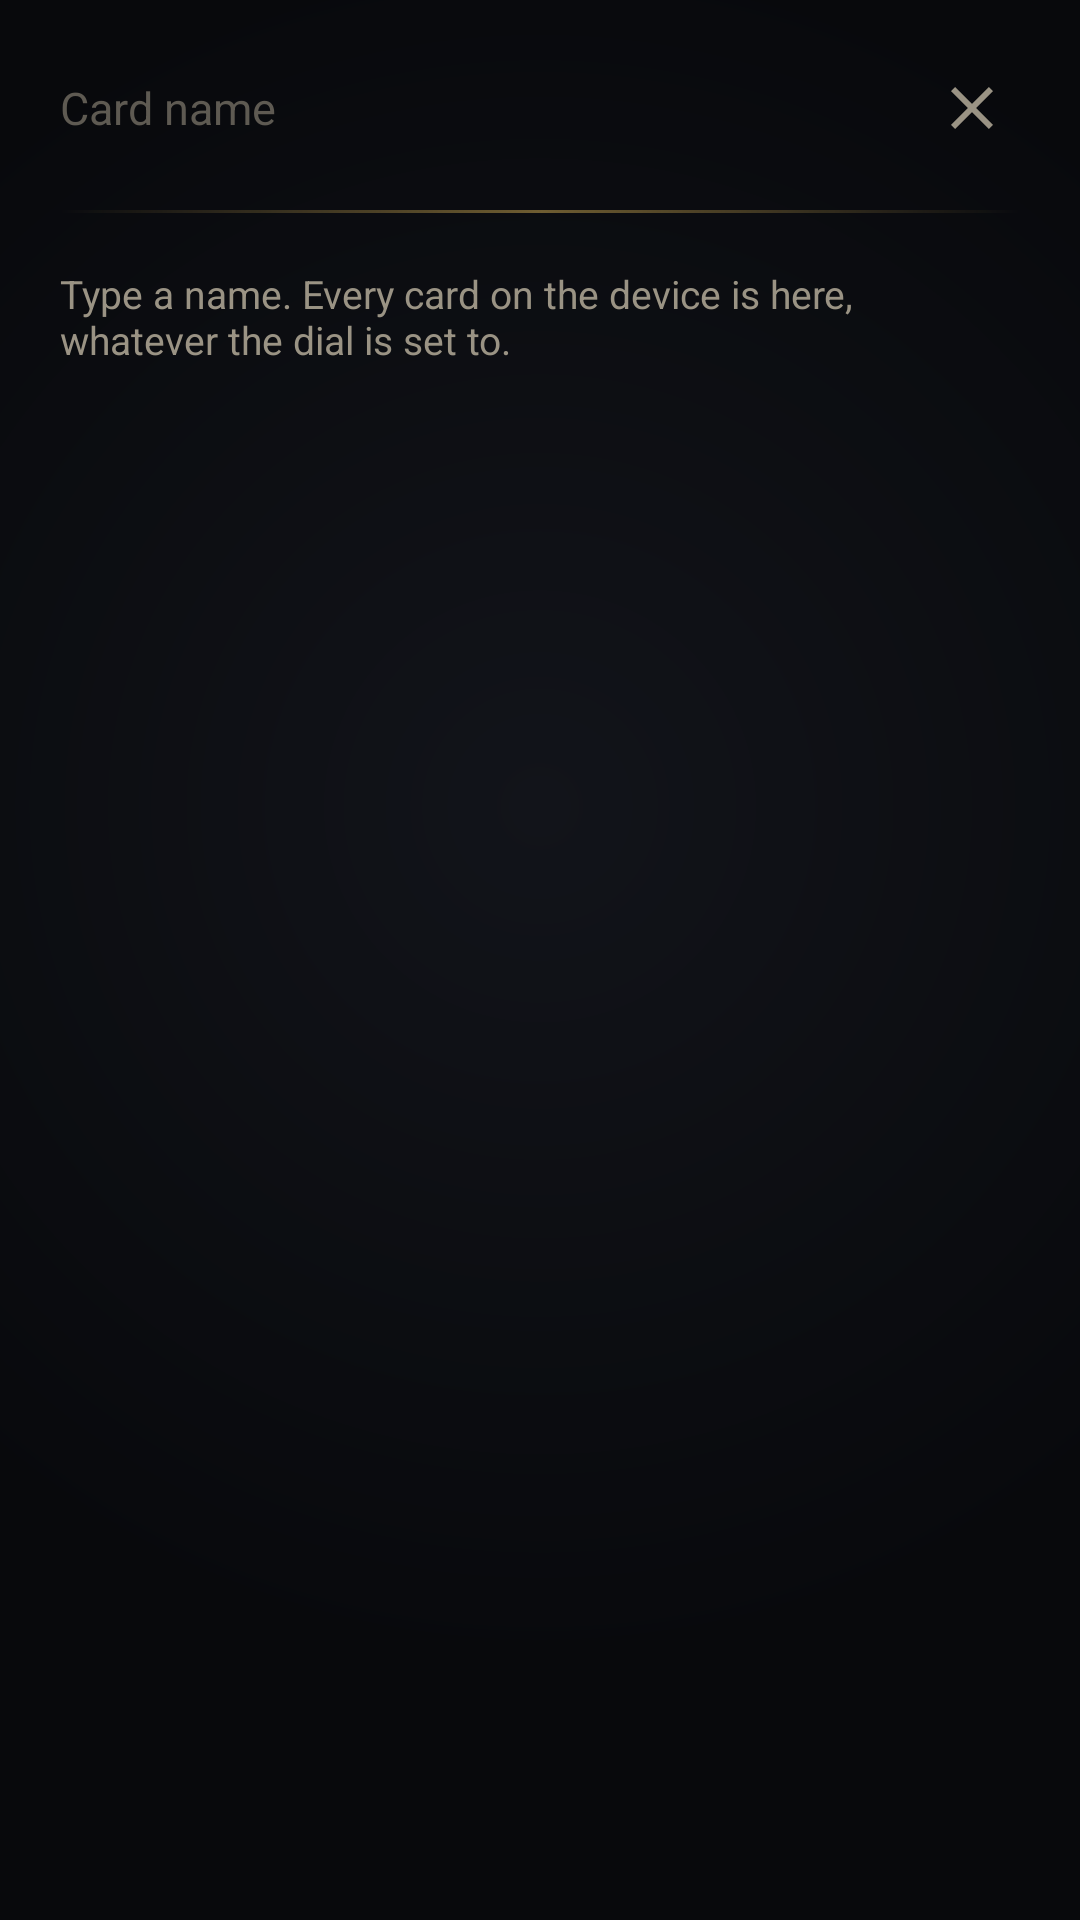

Locate icon controls on the screen. Image size 1080w x 1920h, boxes as [left=x1, top=y1, right=x2, bottom=y2].
Close: [left=951, top=87, right=993, bottom=129]
